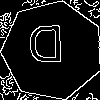D: (27, 25, 65, 72)
